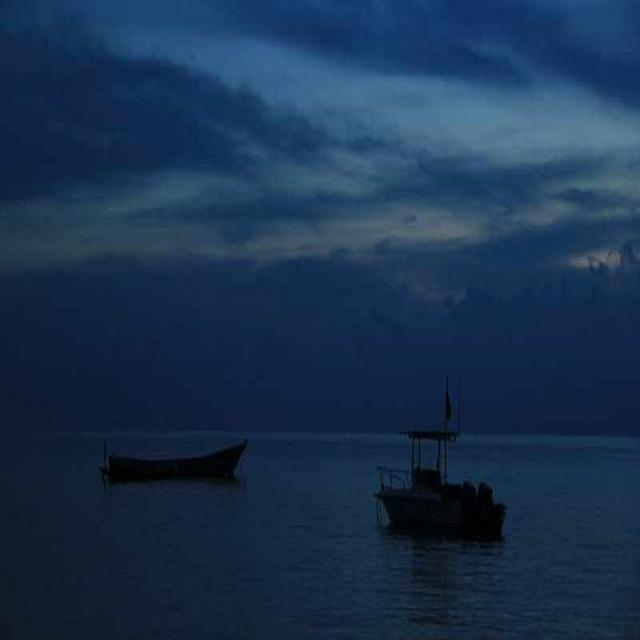Boat: (77, 396, 289, 504), (366, 421, 525, 563)
